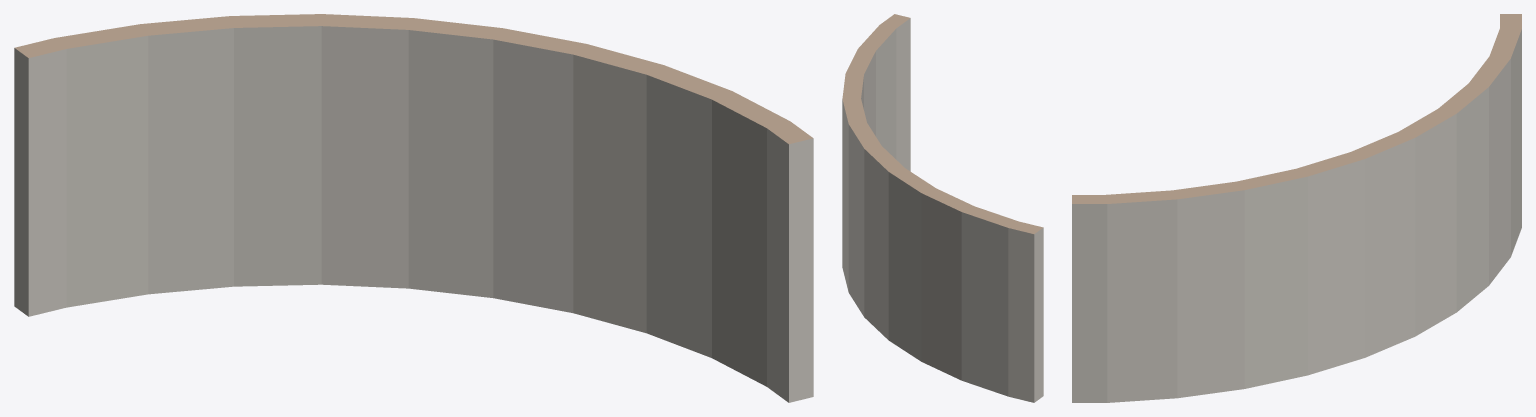
File: Structure_Wall_Curved_Large_Main.fbx
3 renders of one model, left to right at view 1: azimuth 30°, elevation 25°; view 2: azimuth 150°, elevation 25°; view 3: azimuth 270°, elevation 25°, orthographic. The views are drawn at different scales.
Visible parts, largest first — view 1: object1.112; view 2: object1.112; view 3: object1.112.
Part boxes in pixels (left/top/right/bottom): object1.112: left=14, top=14, right=813, bottom=402; object1.112: left=842, top=14, right=1043, bottom=402; object1.112: left=1072, top=14, right=1521, bottom=402.
Size of the model in its own units: 205 by 100 by 205.
